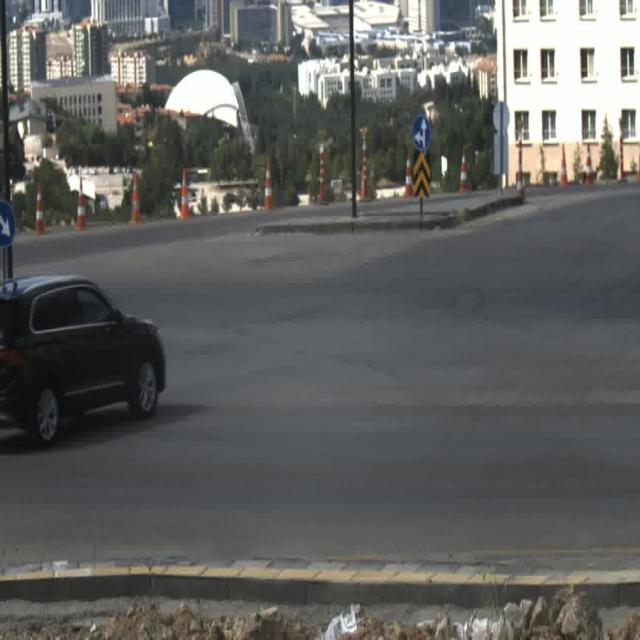Car: (0, 277, 168, 444)
